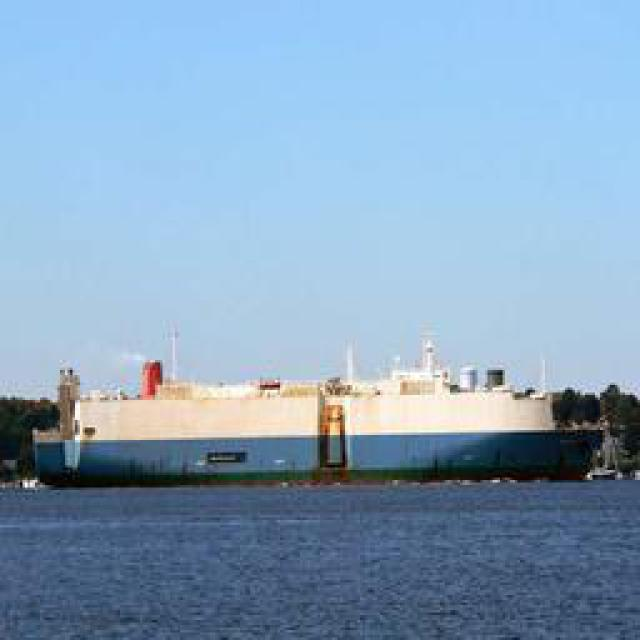Ship: (35, 347, 593, 485)
